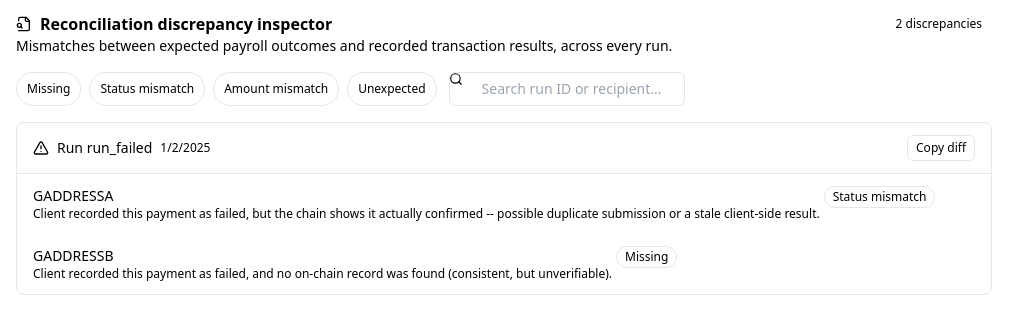
Test: ReconciliationDiscrepancyInspector › filters out all results when a non-matching category is selected
Step 1. Click the button "Amount mismatch" → click(276, 89), box [213, 72, 339, 106]
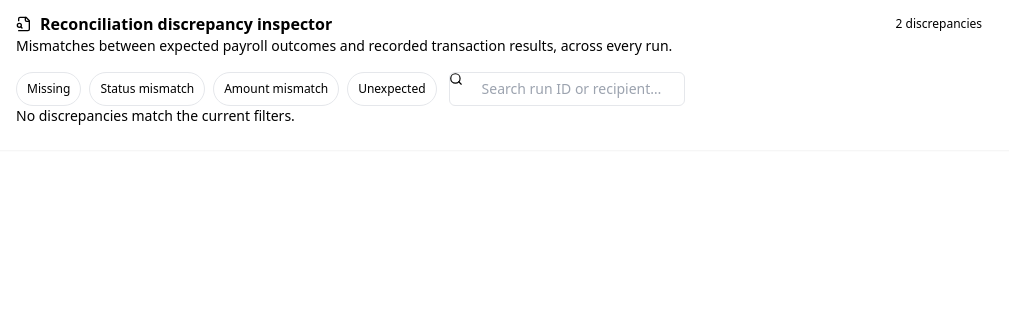
Now the text "No discrepancies match the current filters." is shown, box [16, 106, 295, 125]
